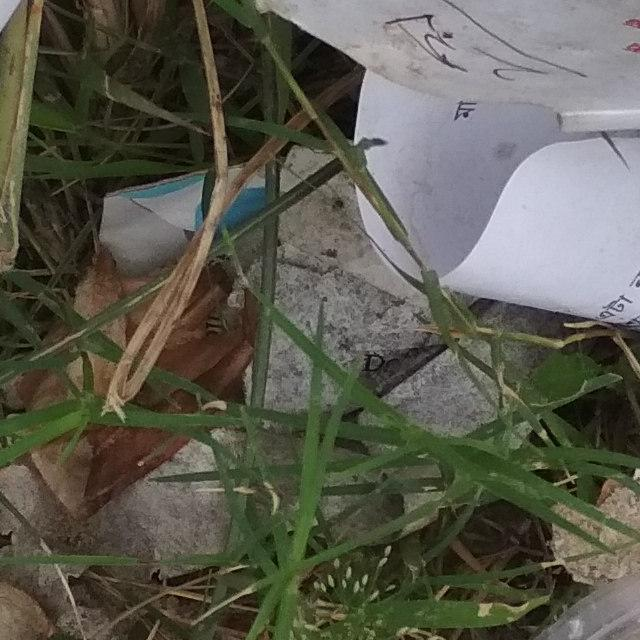paper: (0, 0, 442, 640), (233, 0, 640, 583)
